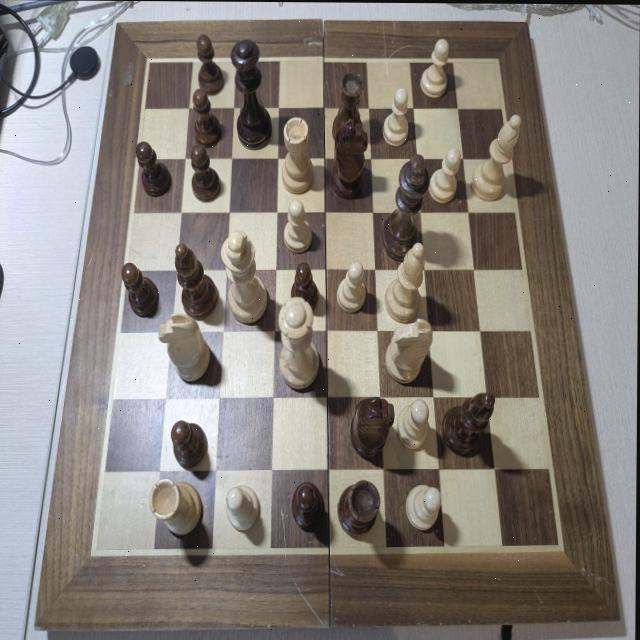black_bishop: (175, 238, 220, 318), (441, 393, 496, 455)
black_king: (383, 151, 430, 258)
black_knight: (331, 118, 369, 200), (351, 396, 395, 458)
black_pawn: (122, 260, 160, 318), (135, 140, 172, 198), (190, 142, 222, 202), (191, 88, 221, 148), (171, 421, 207, 470), (194, 32, 223, 92), (291, 481, 324, 531), (291, 260, 318, 308)
black_queen: (231, 38, 272, 148)
black_rook: (339, 479, 381, 536), (332, 70, 364, 144)
white_bishop: (472, 113, 522, 199), (385, 241, 425, 323)
white_king: (221, 228, 268, 323)
white_knight: (158, 313, 212, 383), (385, 317, 434, 384)
white_pawn: (428, 146, 462, 203), (420, 35, 450, 98), (396, 397, 431, 450), (382, 84, 411, 146), (225, 484, 262, 531), (406, 483, 442, 531), (338, 259, 368, 313), (284, 201, 313, 255)
white_queen: (278, 297, 321, 387)
white_rook: (149, 477, 203, 534), (281, 118, 313, 194)
